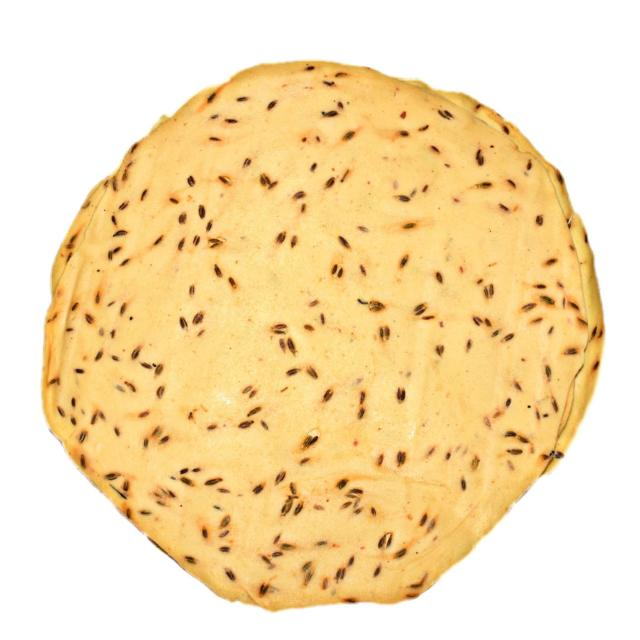papad: (44, 66, 595, 604)
